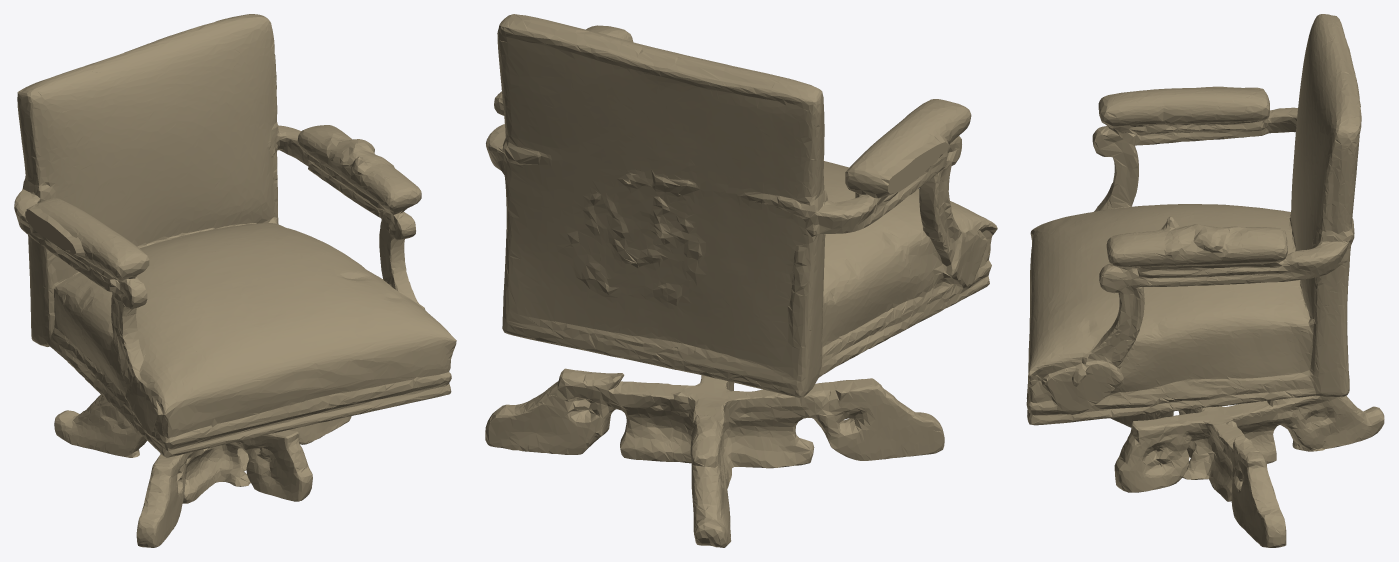
The model's file is triposg_v6.glb.
3 views of the same model, side by side, from view 1: azimuth 30°, elevation 25°; view 2: azimuth 150°, elevation 25°; view 3: azimuth 270°, elevation 25° (orthographic). The views are drawn at different scales.
Parts seen in each view (by area): view 1: world; view 2: world; view 3: world.
Part boxes in pixels (<box>): world: <box>14,14,456,547</box>; world: <box>485,14,997,547</box>; world: <box>1026,14,1384,547</box>.
Bounding box in the file's own units: 1.64 × 1.87 × 1.52.
